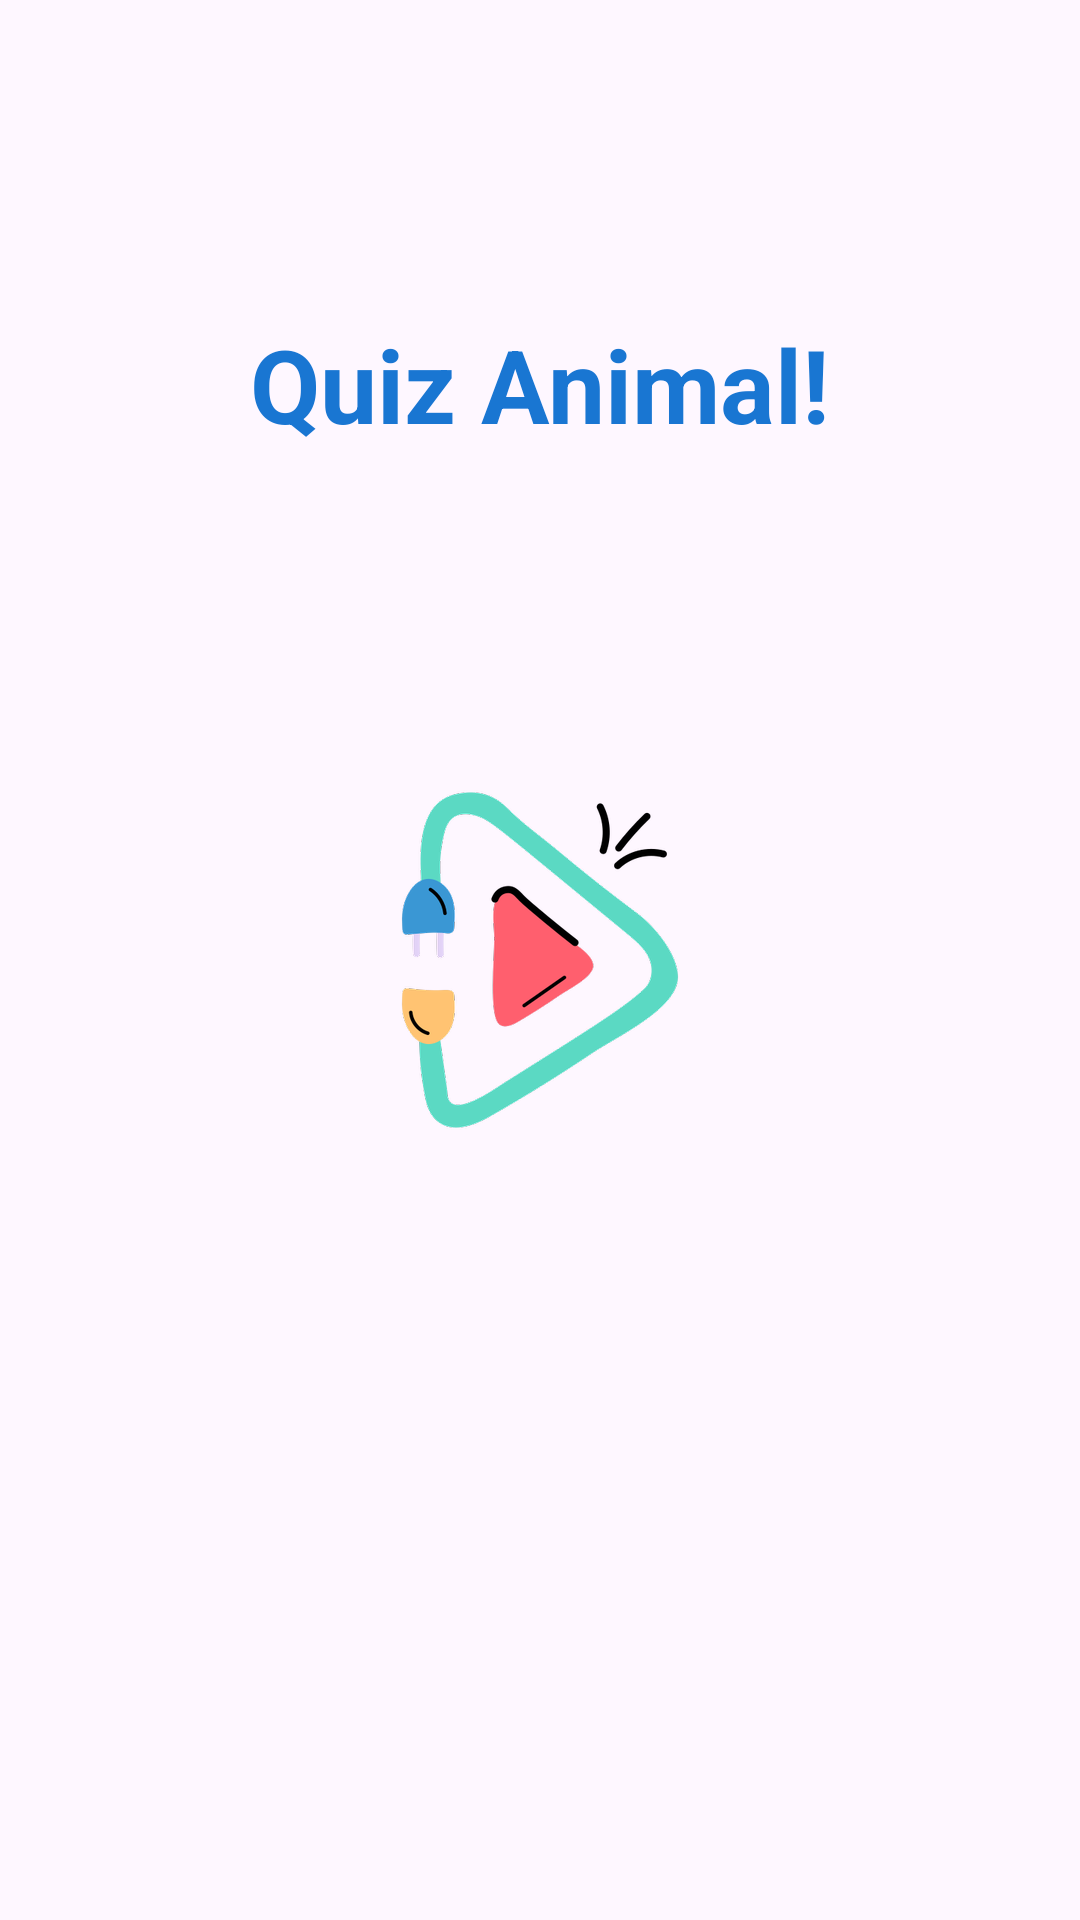

Icons on this 1080×1920 Android screen, each with the point to tap as [x,y]:
play: [540,960]
